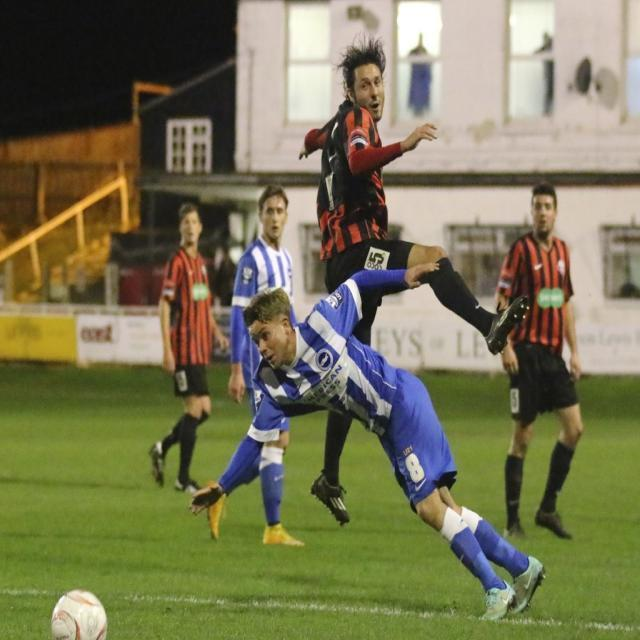football: (43, 582, 117, 640)
